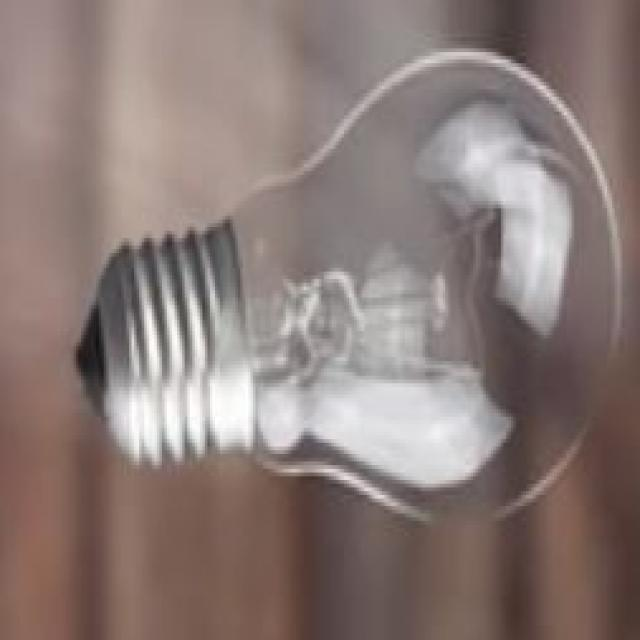electronic: (73, 41, 622, 525)
